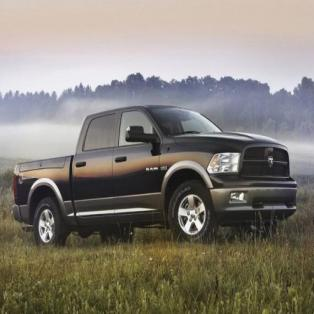Auto: (12, 106, 296, 248)
